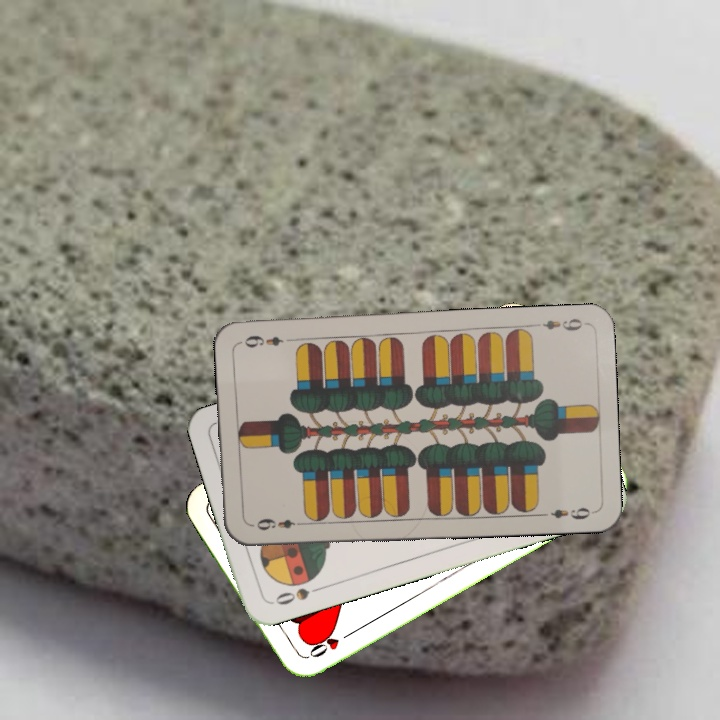E9: (529, 314, 585, 334), (253, 514, 306, 533)
HO: (298, 625, 354, 663)
SO: (271, 582, 325, 608)
